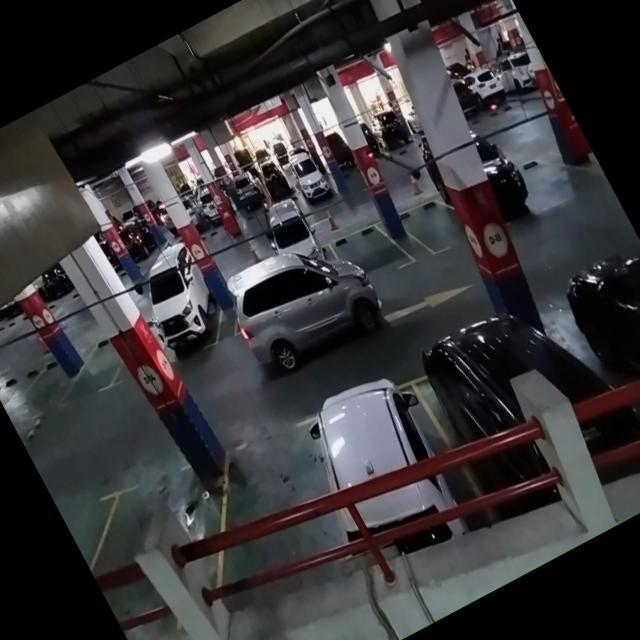empty: (184, 406, 380, 616), (62, 453, 244, 634), (327, 210, 416, 294), (396, 189, 470, 264)
occupied: (404, 290, 636, 531), (299, 363, 496, 582), (126, 246, 235, 368)
